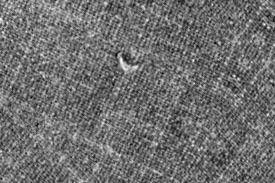snag: (115, 49, 144, 78)
